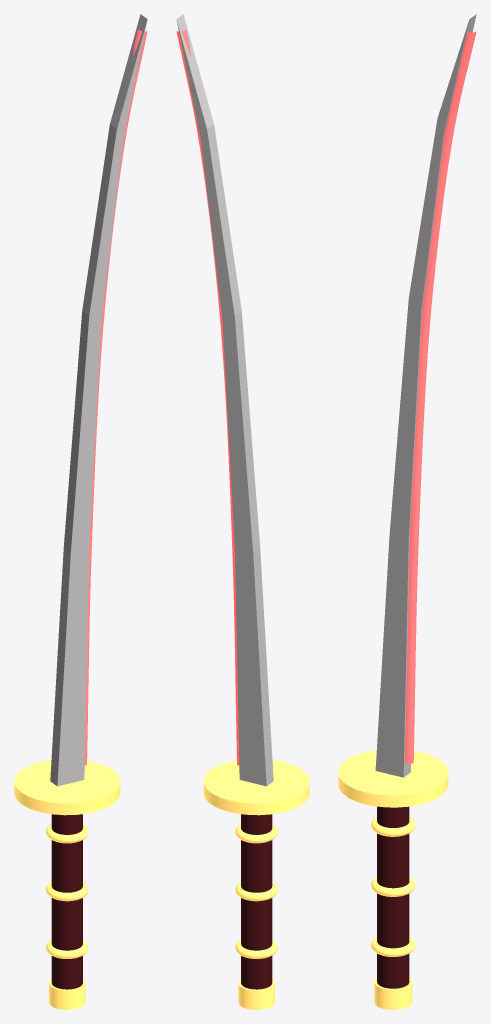
Rendered from samurai_longsword.glb.
The picture shows the model from 3 angles, left to right: view 1: azimuth 30°, elevation 25°; view 2: azimuth 150°, elevation 25°; view 3: azimuth 330°, elevation 25°; orthographic projection. The views are drawn at different scales.
Visible parts, largest first — view 1: sl_blade, sl_grip, sl_tsuba, sl_edge, sl_cap, sl_wrap2, sl_wrap1, sl_wrap3; view 2: sl_blade, sl_grip, sl_tsuba, sl_edge, sl_cap, sl_wrap2, sl_wrap1, sl_wrap3; view 3: sl_blade, sl_edge, sl_grip, sl_tsuba, sl_cap, sl_wrap1, sl_wrap3, sl_wrap2.
Boxes of the visible parts, <box> form: sl_blade: <box>50,14,147,786</box>; sl_grip: <box>51,814,82,989</box>; sl_tsuba: <box>14,760,120,815</box>; sl_edge: <box>84,29,147,765</box>; sl_cap: <box>49,979,85,1009</box>; sl_wrap2: <box>46,882,88,901</box>; sl_wrap1: <box>46,824,88,843</box>; sl_wrap3: <box>46,940,88,958</box>; sl_blade: <box>176,14,273,786</box>; sl_grip: <box>241,814,272,989</box>; sl_tsuba: <box>203,760,309,815</box>; sl_edge: <box>176,29,239,765</box>; sl_cap: <box>238,979,274,1009</box>; sl_wrap2: <box>235,882,277,901</box>; sl_wrap1: <box>235,824,277,843</box>; sl_wrap3: <box>235,940,277,958</box>; sl_blade: <box>375,14,476,777</box>; sl_edge: <box>405,31,476,764</box>; sl_grip: <box>377,806,409,988</box>; sl_tsuba: <box>338,750,448,807</box>; sl_cap: <box>374,978,412,1009</box>; sl_wrap1: <box>371,817,415,836</box>; sl_wrap3: <box>371,937,415,956</box>; sl_wrap2: <box>371,877,415,896</box>.
Bounding box in the file's own units: 0.2048 × 1.51 × 0.15.
